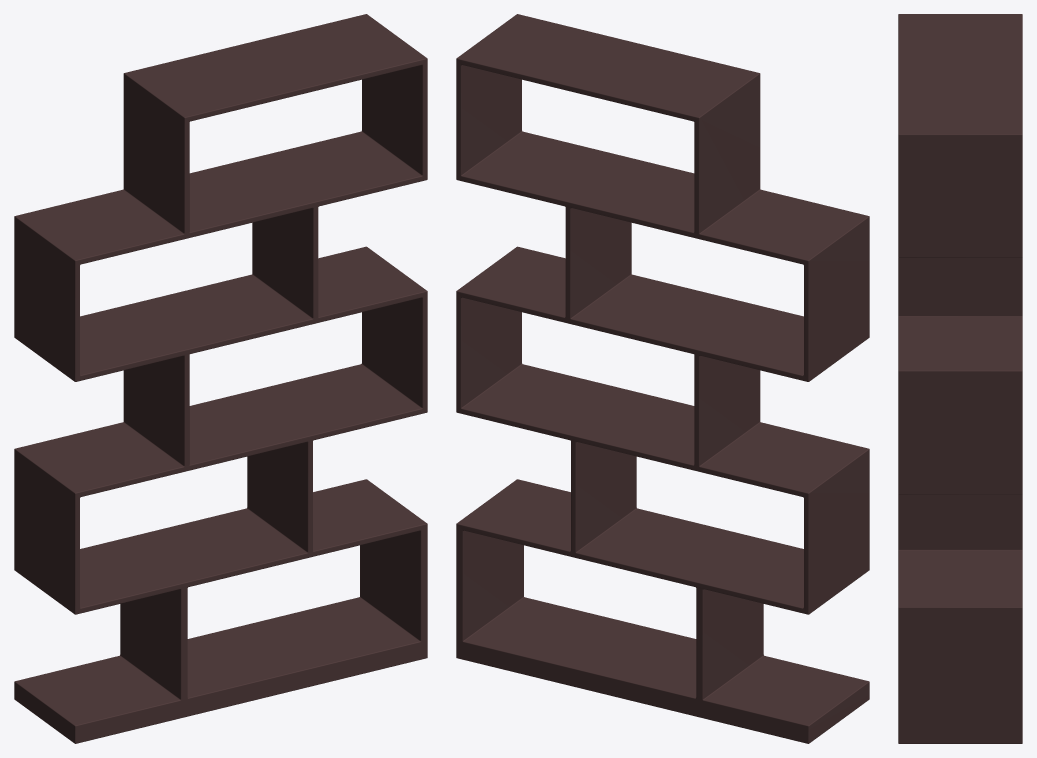
The model's file is bookshelf.glb.
The picture shows the model from 3 angles, left to right: view 1: azimuth 30°, elevation 25°; view 2: azimuth 150°, elevation 25°; view 3: azimuth 270°, elevation 25°; orthographic projection.
Visible parts, largest first — view 1: Object_2; view 2: Object_2; view 3: Object_2.
Part boxes in pixels (bbox=[...]): Object_2: bbox=[14, 14, 427, 743]; Object_2: bbox=[456, 14, 869, 743]; Object_2: bbox=[898, 14, 1022, 743].
Size of the model in its own units: 1000 by 1625 by 300.
